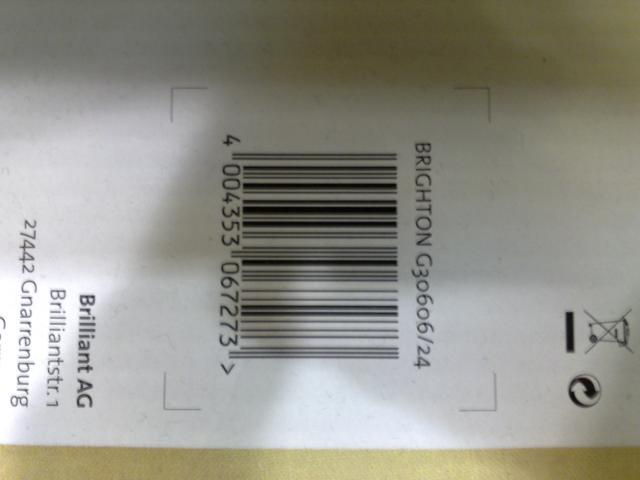Barkod: (238, 150, 400, 360)
